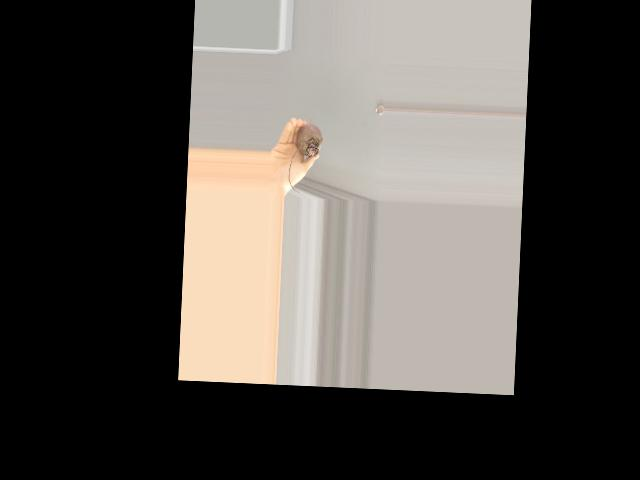beet: (287, 114, 322, 193)
